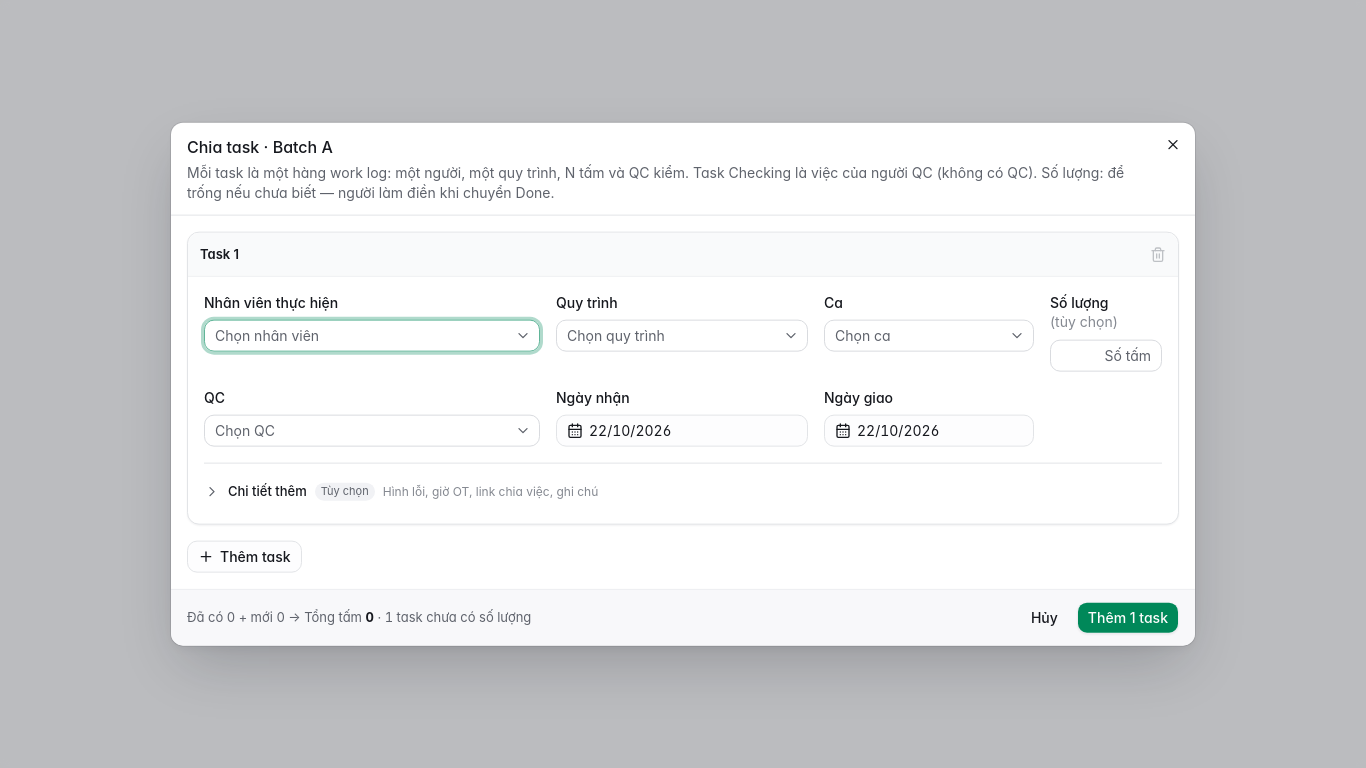
SplitTasksDialog — line cards › Thêm task copies everything from task 1 except the person (quantity included) and focuses its person
Step 1. Click the dropdown labelled "quy trình" → (682, 336), box x1=556 y1=320 x2=808 y2=352
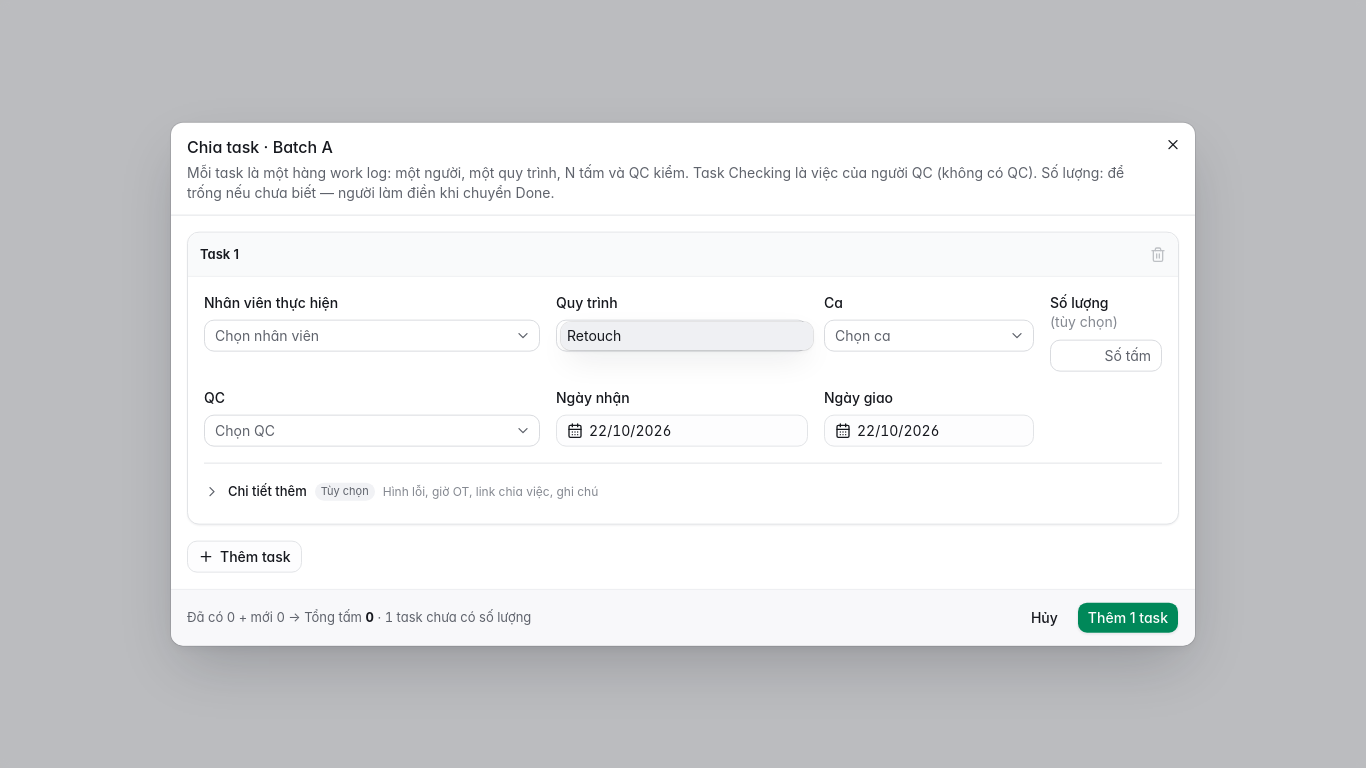
Step 2. Click the option "Retouch" → (687, 336), box x1=561 y1=322 x2=813 y2=350
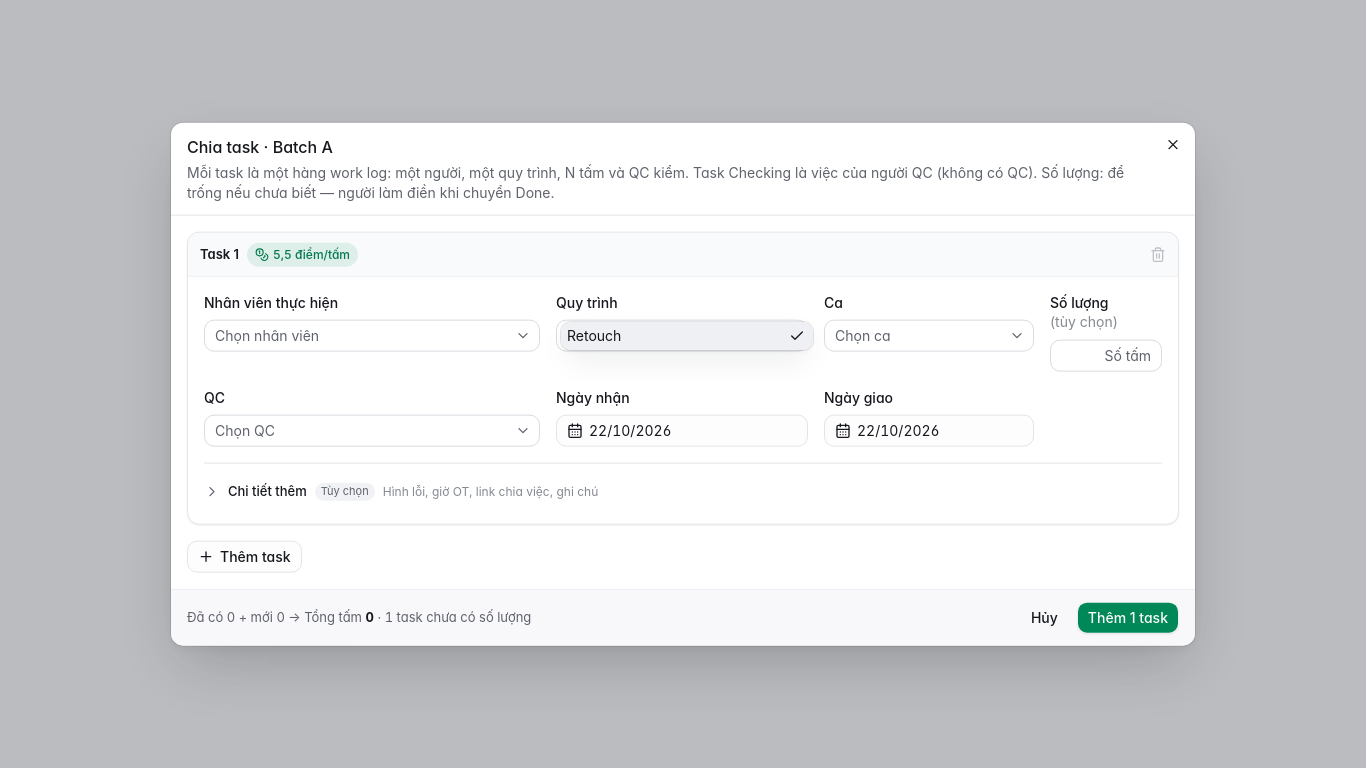
Step 3. Type "20" into the field with placeholder "Số tấm" → (1106, 355), box x1=1050 y1=339 x2=1162 y2=371
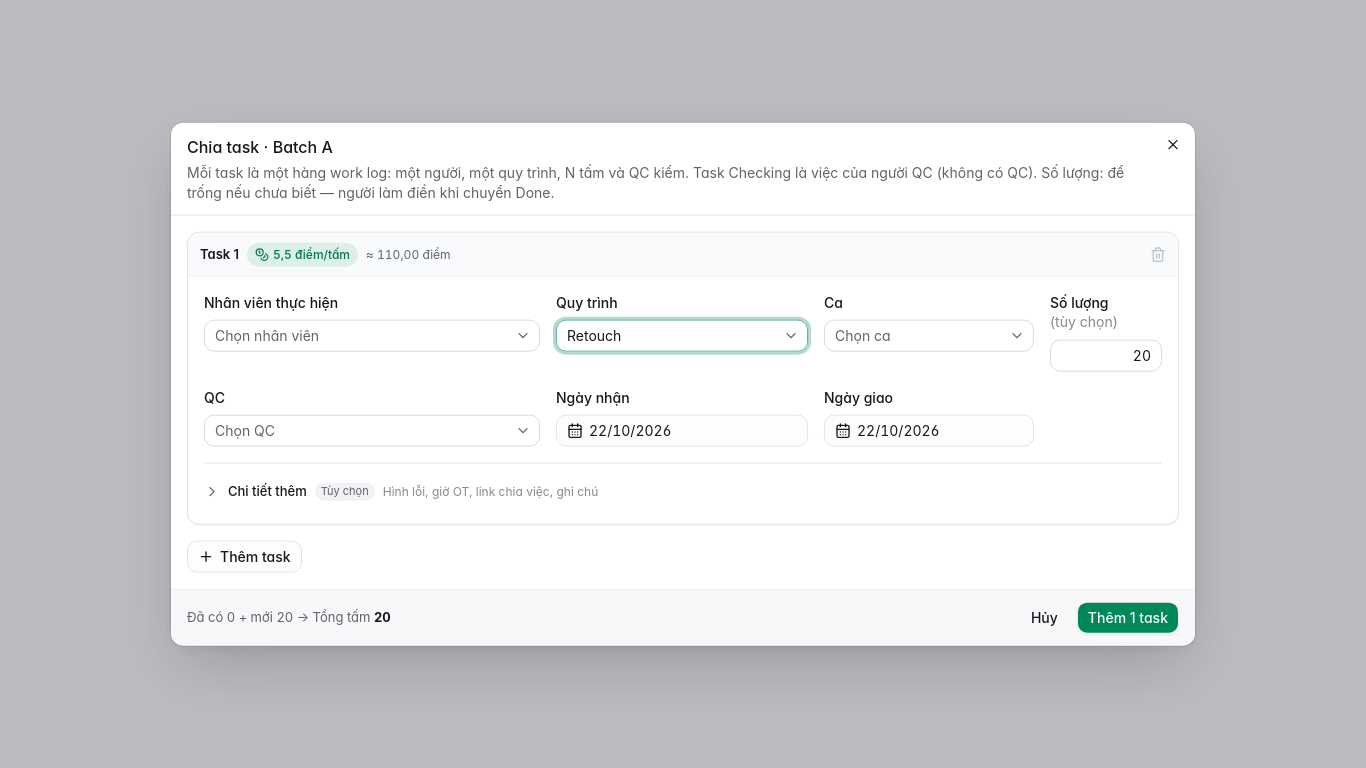
Expected: the text "5,5 điểm/tấm" is shown, x1=247 y1=242 x2=358 y2=266
Expected: the text "≈ 110,00 điểm" is shown, x1=366 y1=246 x2=450 y2=262
Step 4. Click the button "Thêm task" → (244, 556), box x1=187 y1=540 x2=302 y2=572
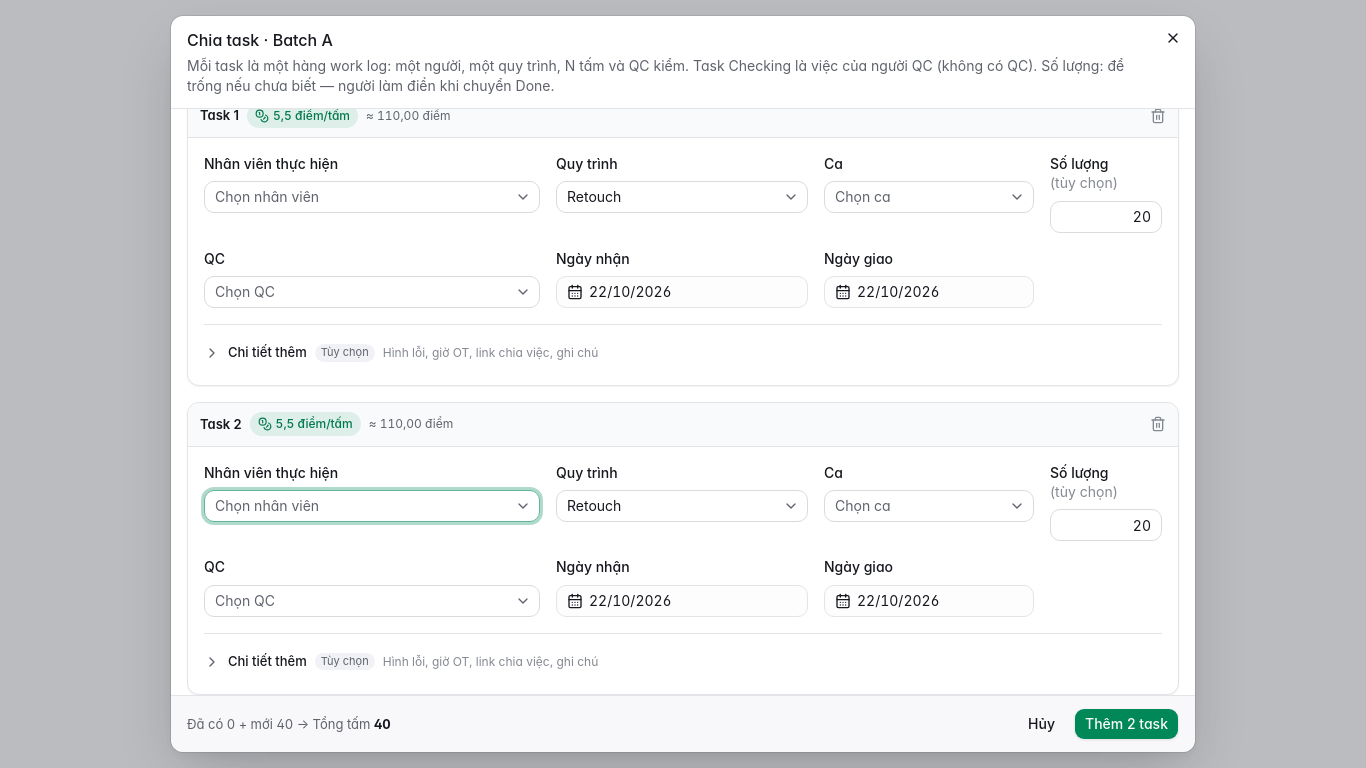
Expected: the text "Task 2" is shown, x1=200 y1=415 x2=242 y2=434
Expected: the 2nd text "5,5 điểm/tấm" is shown, x1=250 y1=412 x2=361 y2=436
Expected: the 2nd field with placeholder "Số tấm" holds "20", x1=1050 y1=509 x2=1162 y2=541
